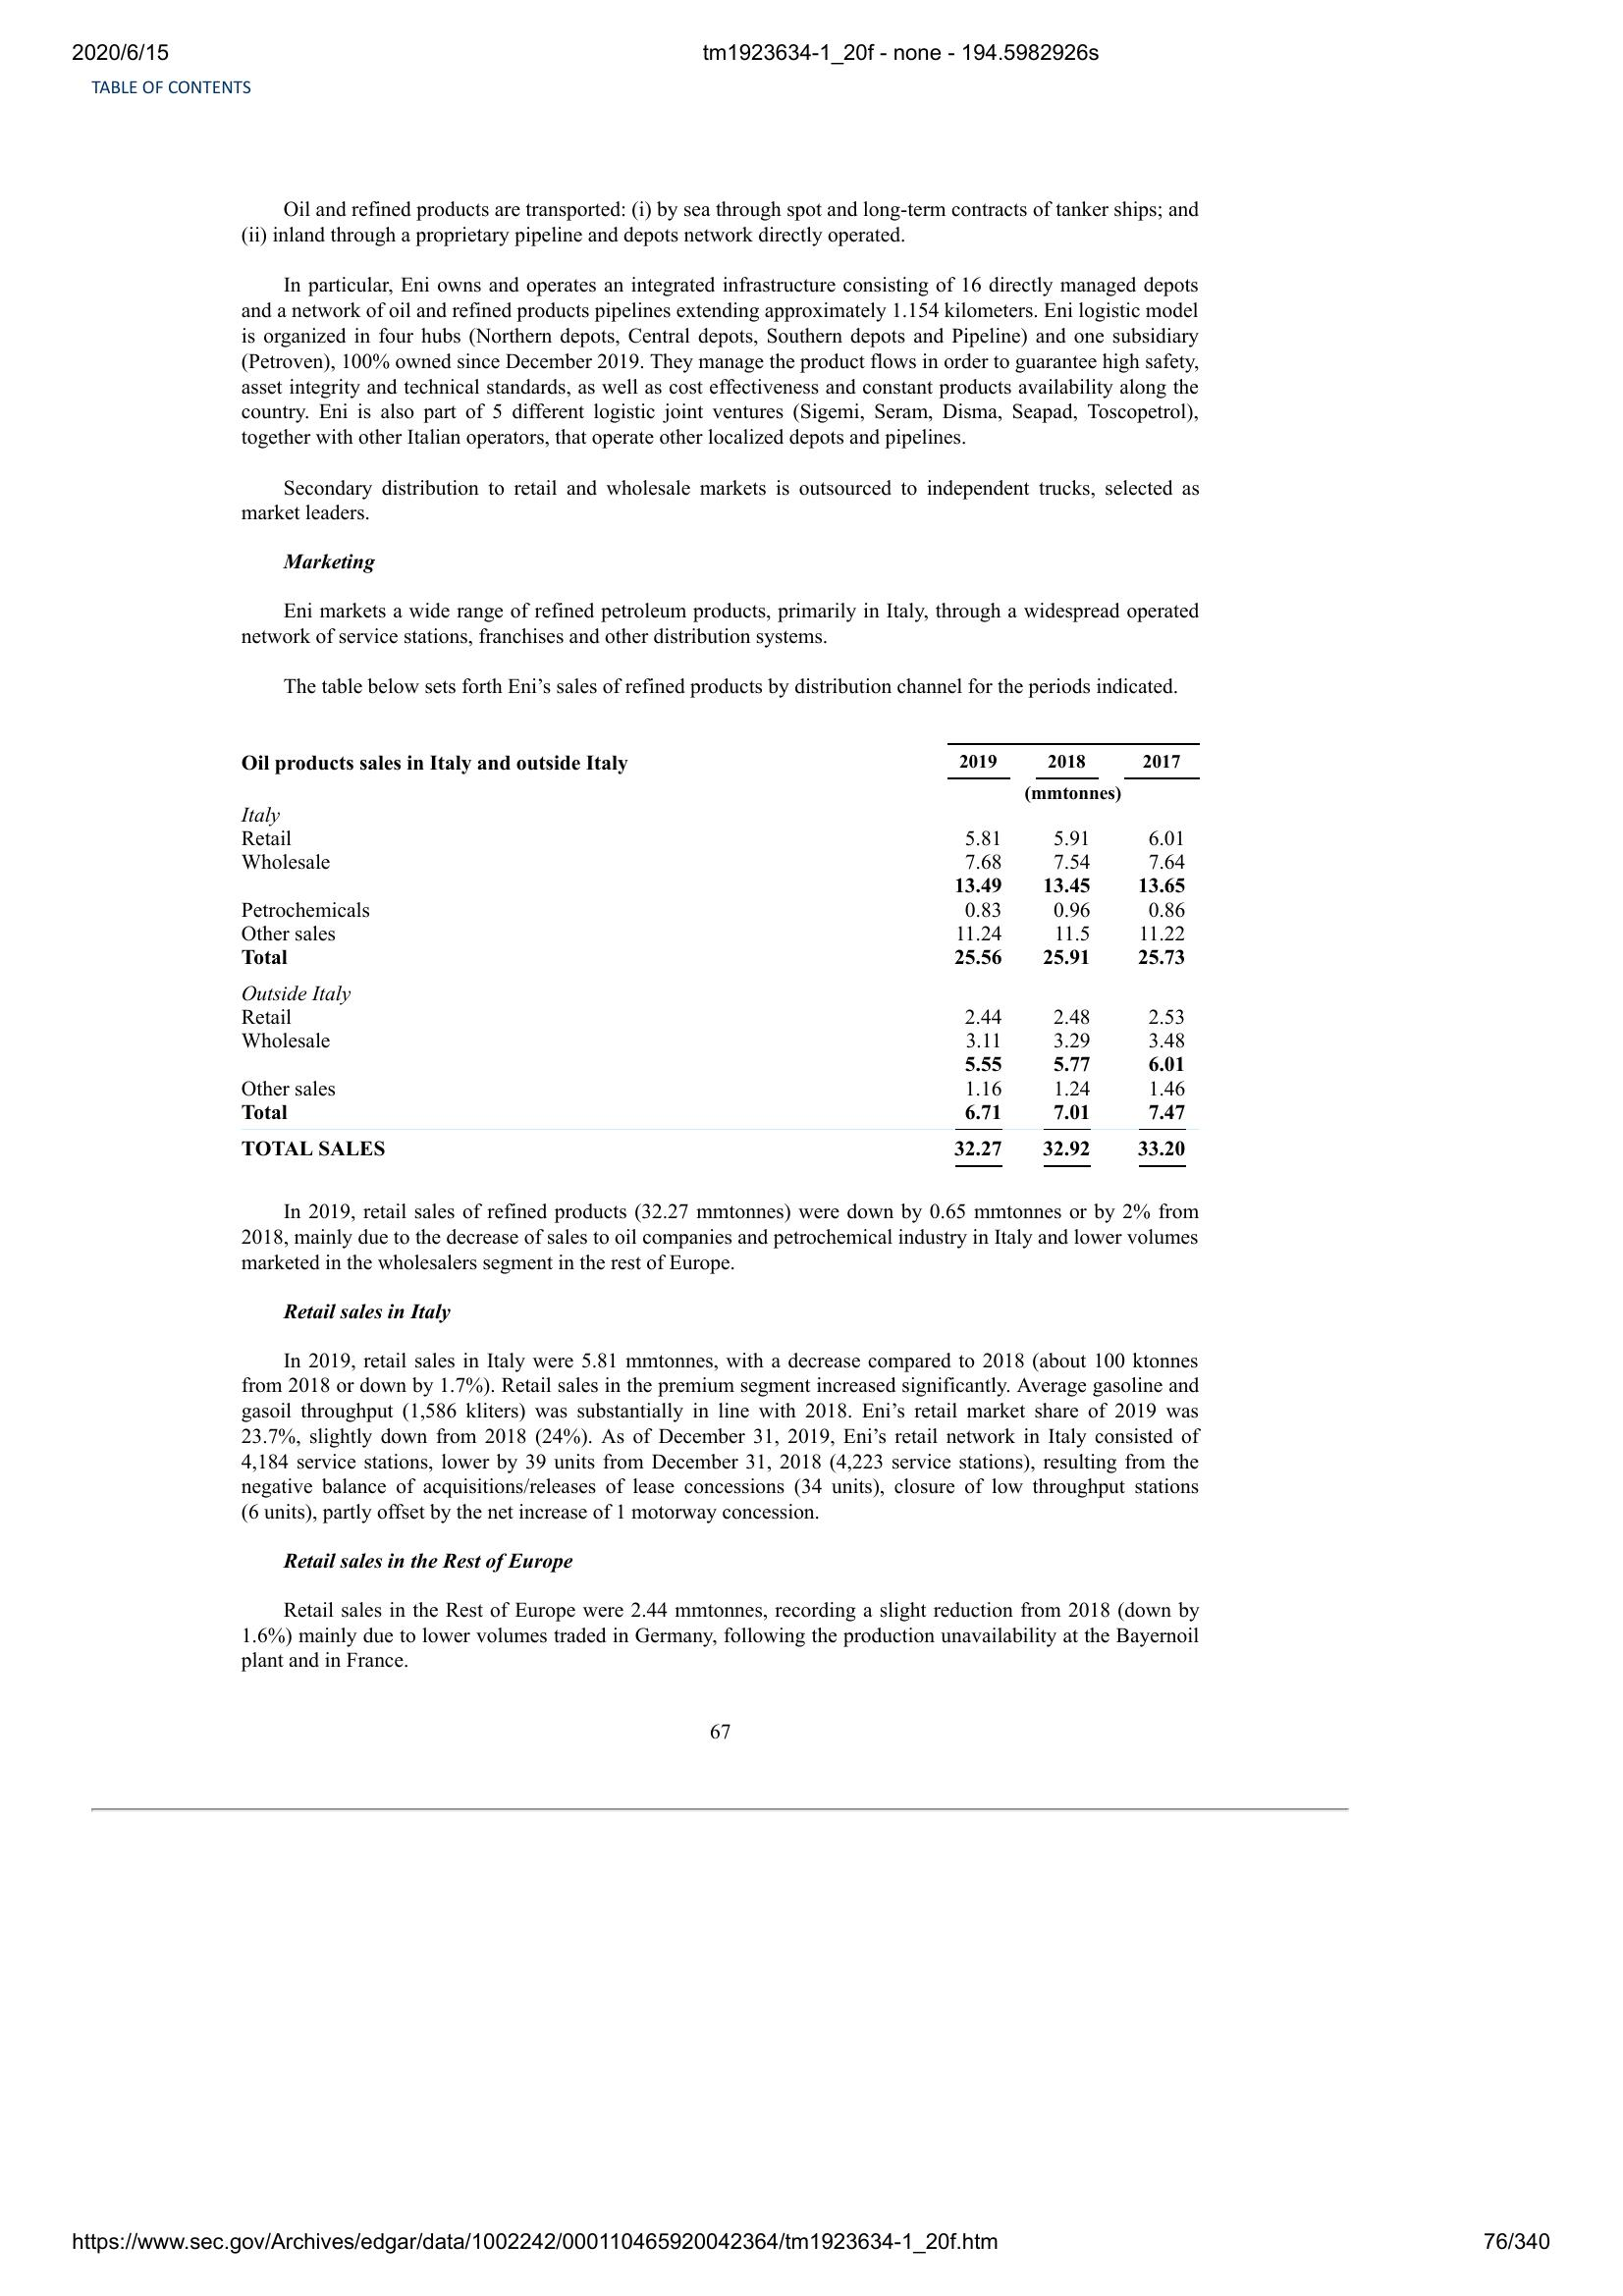table: (237, 739, 1200, 1173)
